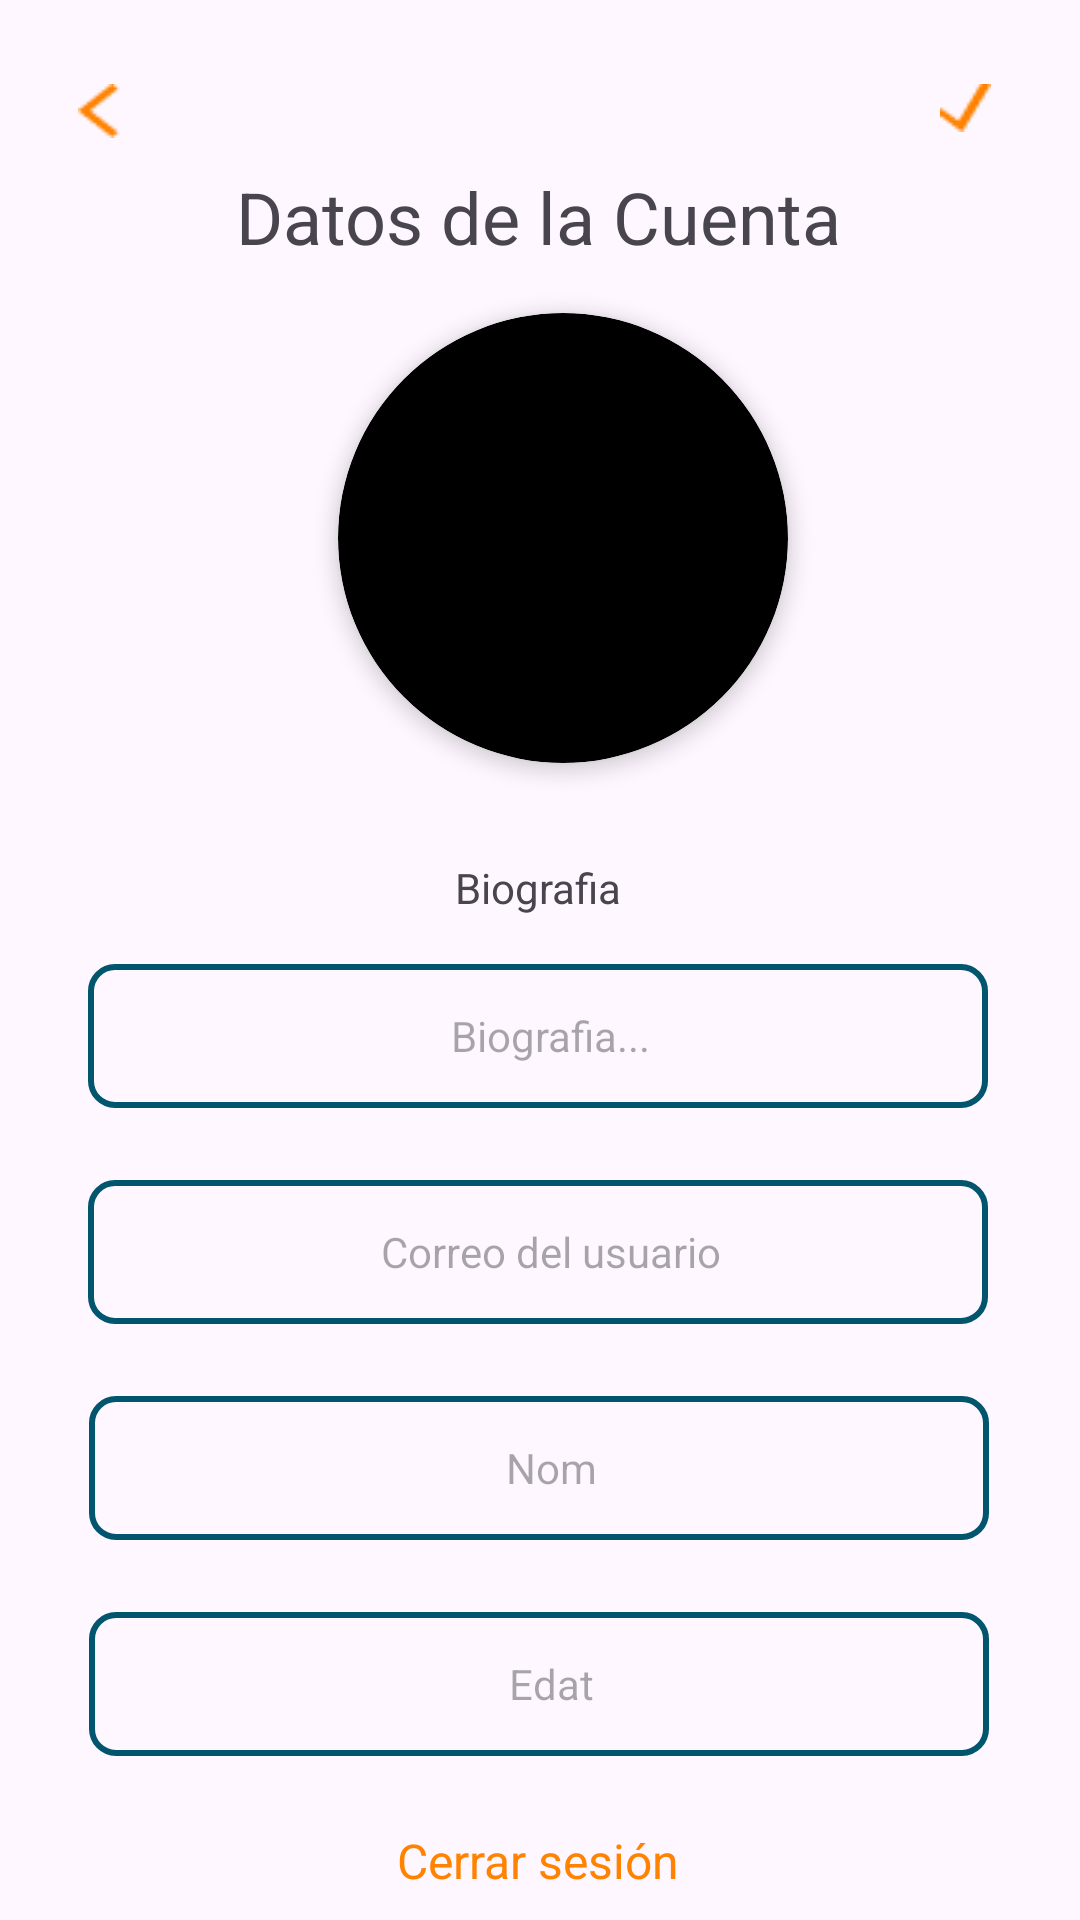

Point at icon controls on the screen. Image size 1080×1920, points as [x,y].
check: [965,108]
goback: [99,111]
